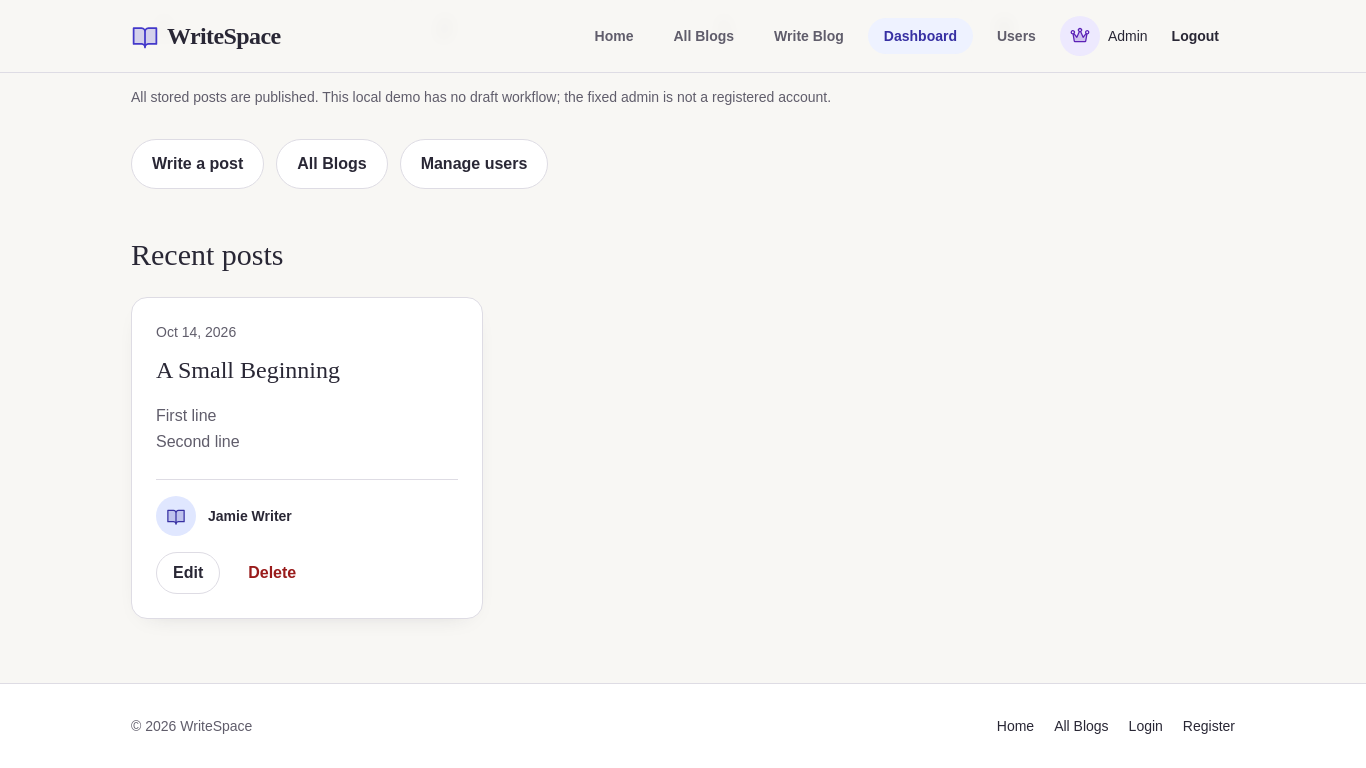
Test: dashboard deletion and admin boundaries via App › preserves view and durable data on confirmed QuotaExceededError write failure
(page scrolled)
Click the button "Delete" at point(272, 573), box [232, 552, 312, 594]
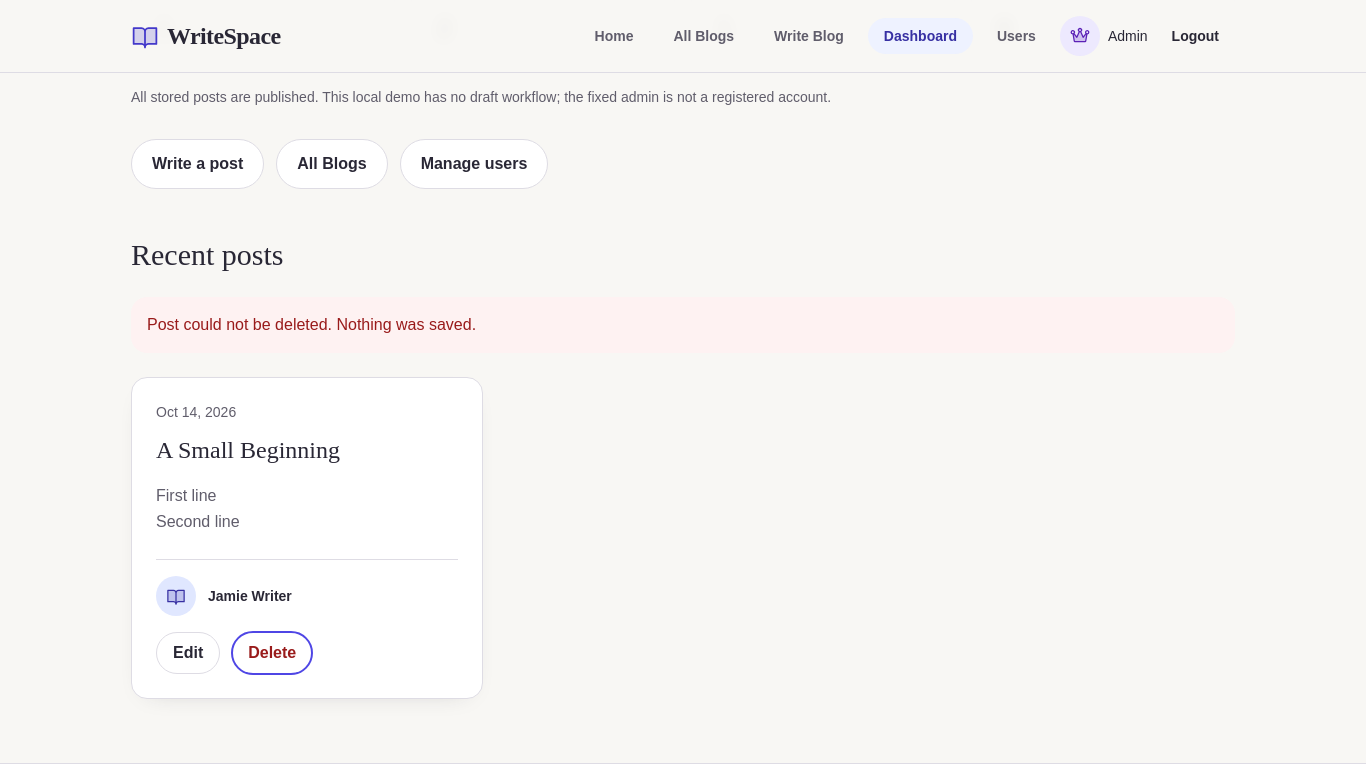
Expected: the element that starts with "Oct 14, 2026" is shown, [131, 377, 483, 699]
Expected: the message reads "Post could not be deleted. Nothing was saved.", [147, 316, 476, 333]
